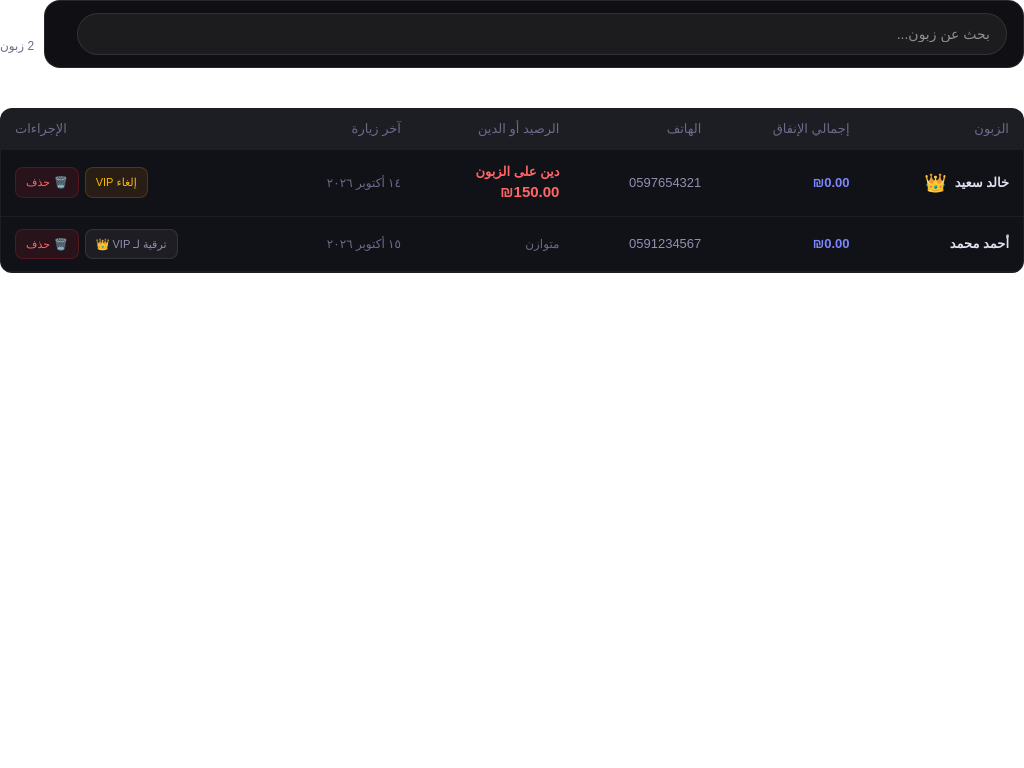
Scenario: CustomersTab Component › opens DoubleConfirmModal when delete button is clicked
The width and height of the screenshot is (1024, 768).
Check: the text "خالد سعيد" is shown, box [955,175,1009,190]
# Khaled is VIP so he appears first (index 0)
Click the button "🗑️ حذف" in the row of "خالد سعيد": (47, 183) [15,167,79,198]
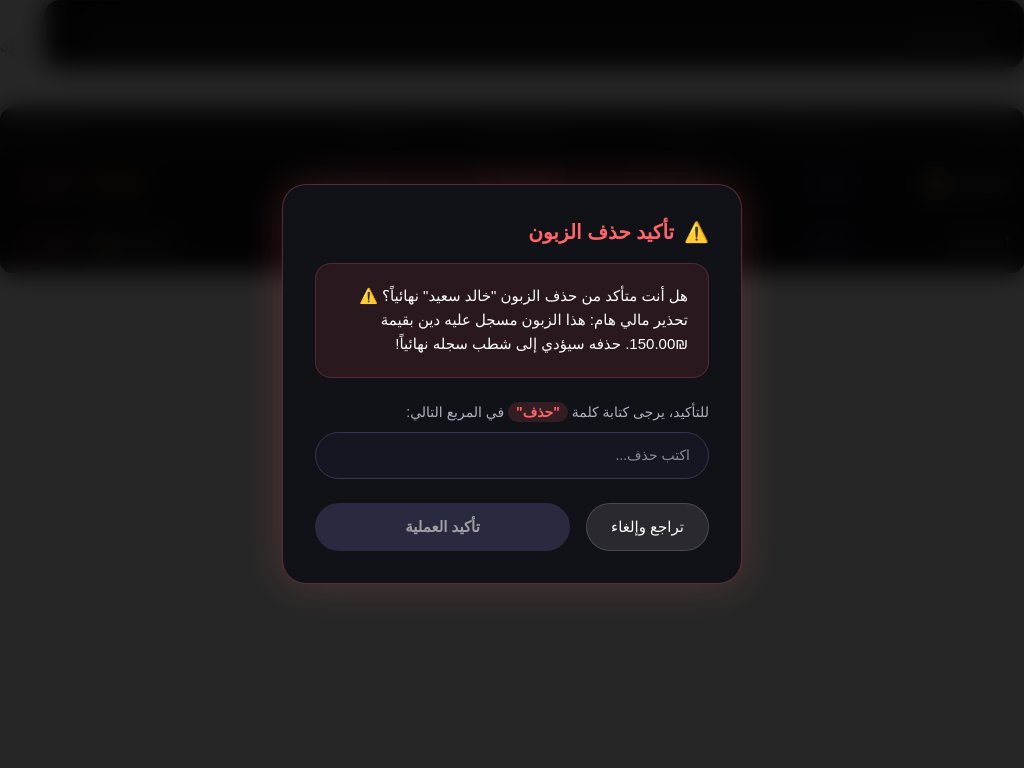
Check: the heading "⚠️ تأكيد حذف الزبون" is shown, box [528,221,709,243]
